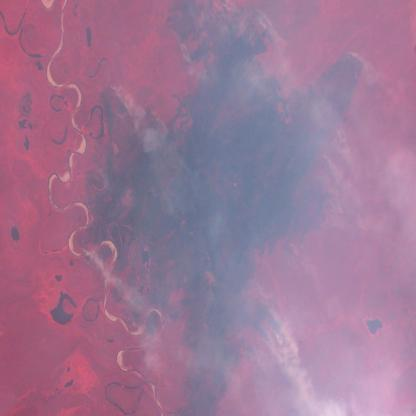fire: (247, 276, 287, 371), (321, 114, 349, 181), (168, 30, 200, 78), (338, 36, 370, 76), (103, 77, 129, 120), (248, 8, 277, 42), (73, 240, 96, 270)
